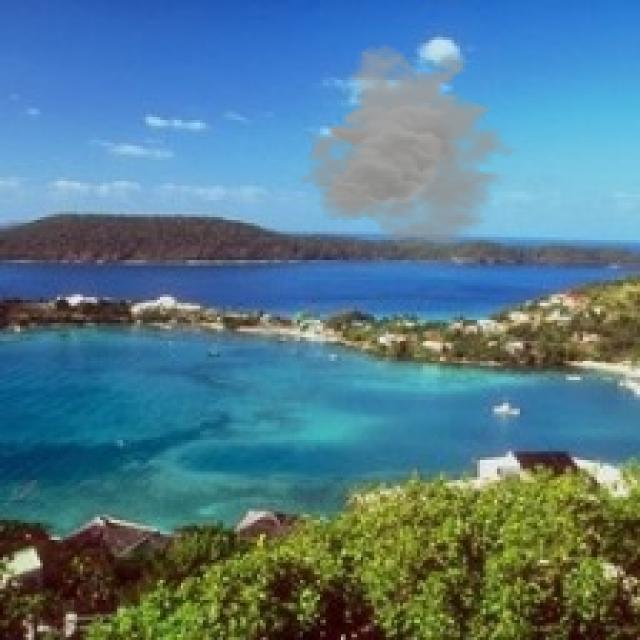smoke: (297, 43, 526, 251)
